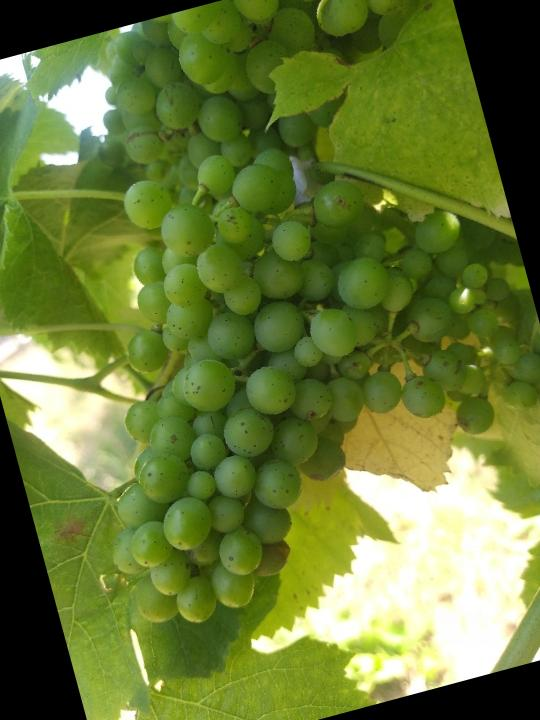grape: (16, 83, 540, 640)
